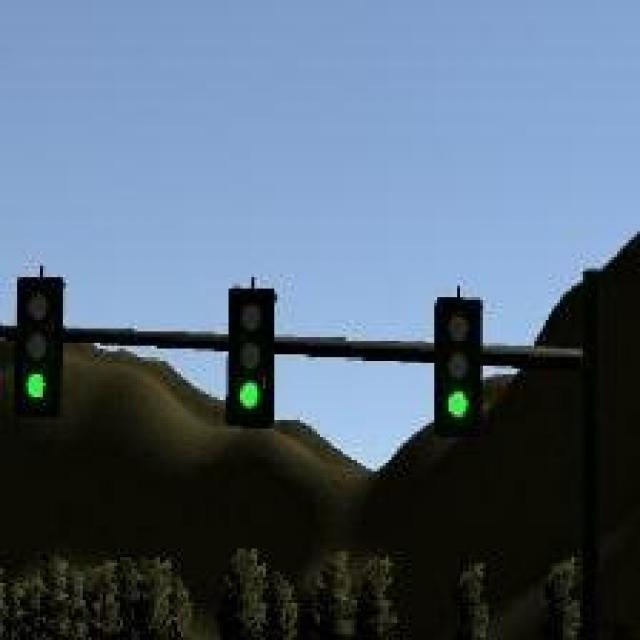green_light: (431, 300, 482, 437), (229, 289, 274, 432), (20, 277, 63, 414)
